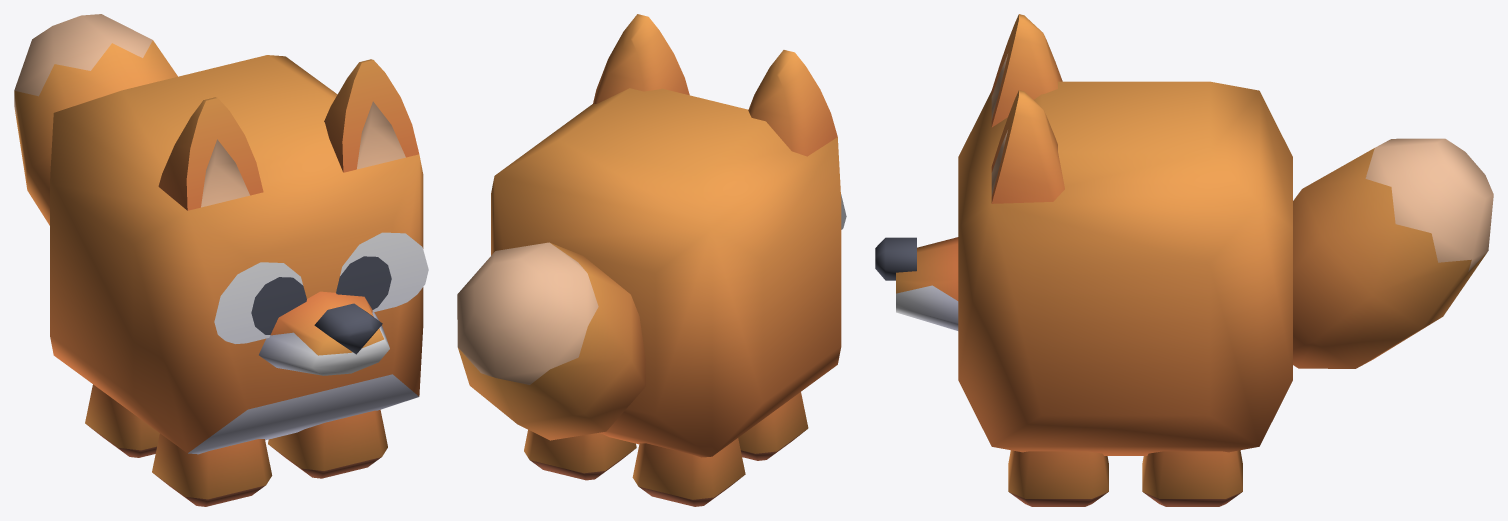
File: animal-fox.obj
3 views of the same model, side by side, from view 1: azimuth 30°, elevation 25°; view 2: azimuth 150°, elevation 25°; view 3: azimuth 270°, elevation 25° (orthographic). The views are drawn at different scales.
Parts seen in each view (by area): view 1: body, tail, leg-front-right, leg-front-left, leg-back-right; view 2: body, tail, leg-back-right, leg-back-left, leg-front-right; view 3: body, tail, leg-front-left, leg-back-left.
Boxes of the visible parts, <box> form: body: <box>50,55,428,454</box>; tail: <box>14,14,177,225</box>; leg-front-right: <box>152,433,272,506</box>; leg-front-left: <box>268,409,387,478</box>; leg-back-right: <box>85,384,159,457</box>; body: <box>491,14,846,457</box>; tail: <box>457,242,645,440</box>; leg-back-right: <box>632,438,745,506</box>; leg-back-left: <box>524,429,636,480</box>; leg-front-right: <box>738,392,808,460</box>; body: <box>875,14,1292,455</box>; tail: <box>1293,138,1493,368</box>; leg-front-left: <box>1008,450,1108,506</box>; leg-back-left: <box>1142,450,1242,506</box>.
Size of the model in its own units: 1.25 by 1.69 by 2.31.
